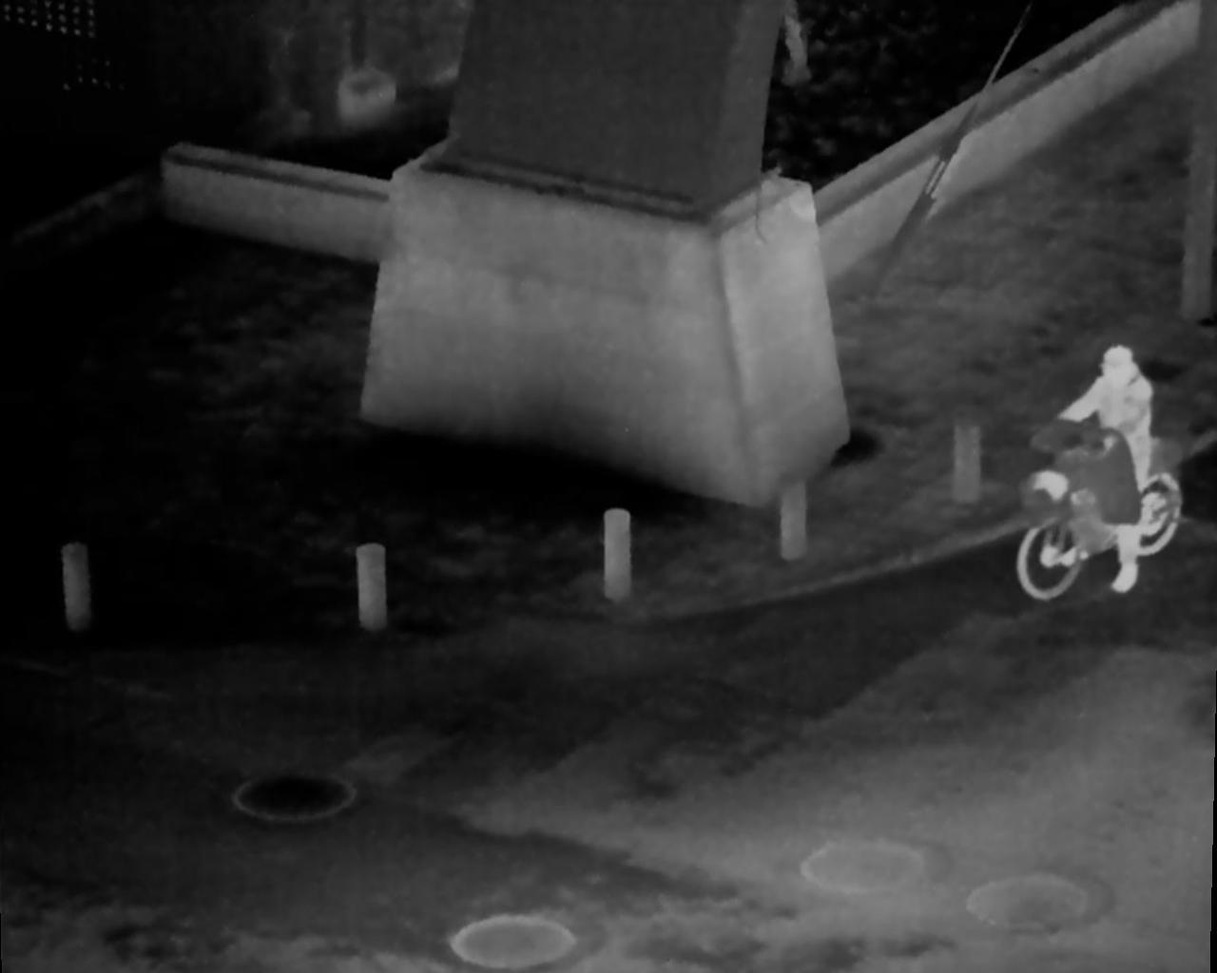person: (1071, 343, 1153, 599)
